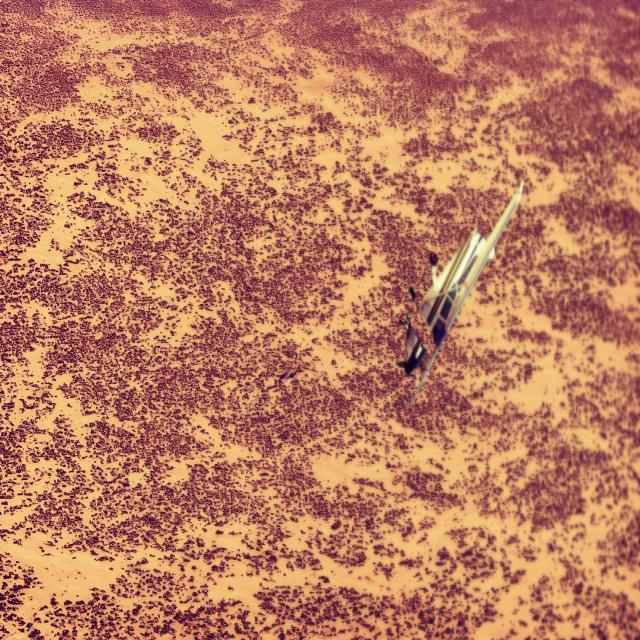airplane: (402, 179, 524, 408)
